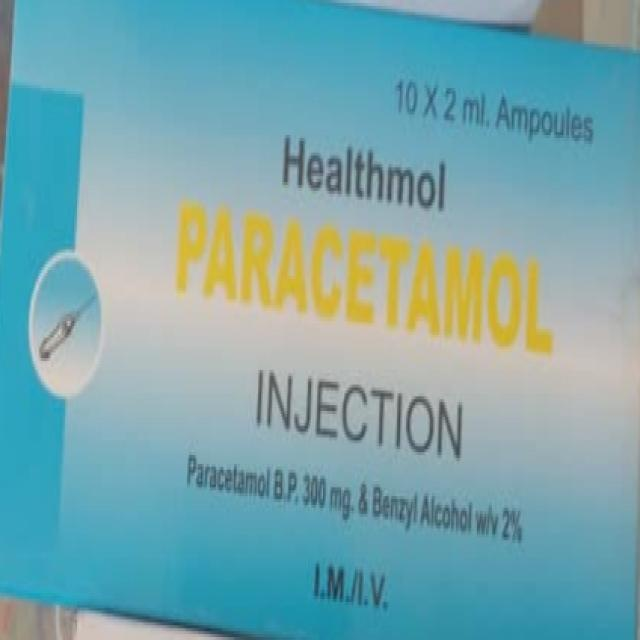drug-name: (275, 128, 455, 215)
